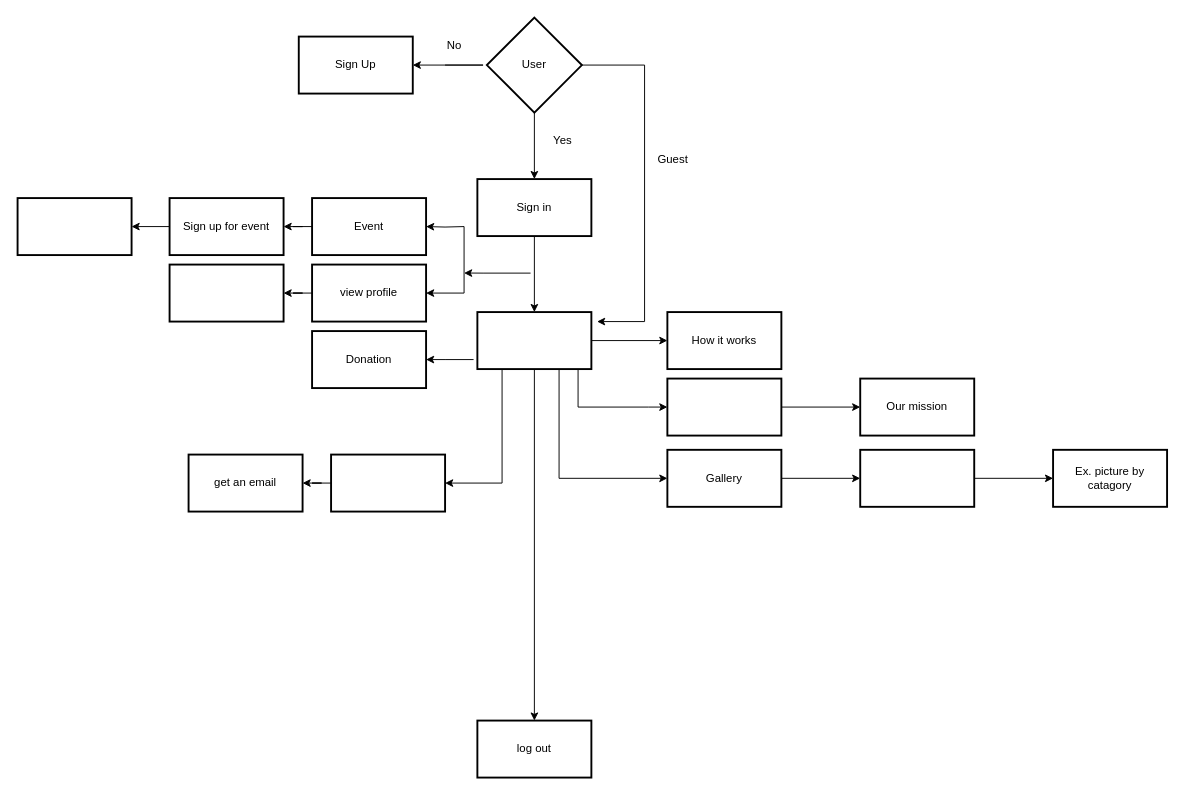
Some shapes in this 1184 by 794 pixel diagram are drawn without their labels. The box of each missing label's shape, as (x1, y1, x2, y2) in pixels:
About Us: (666, 377, 782, 436)
catagory: (859, 448, 975, 507)
Conclusion for event page: (16, 197, 132, 256)
contact us: (330, 453, 446, 512)
edit: (168, 263, 284, 322)
Home Page: (476, 311, 592, 370)
